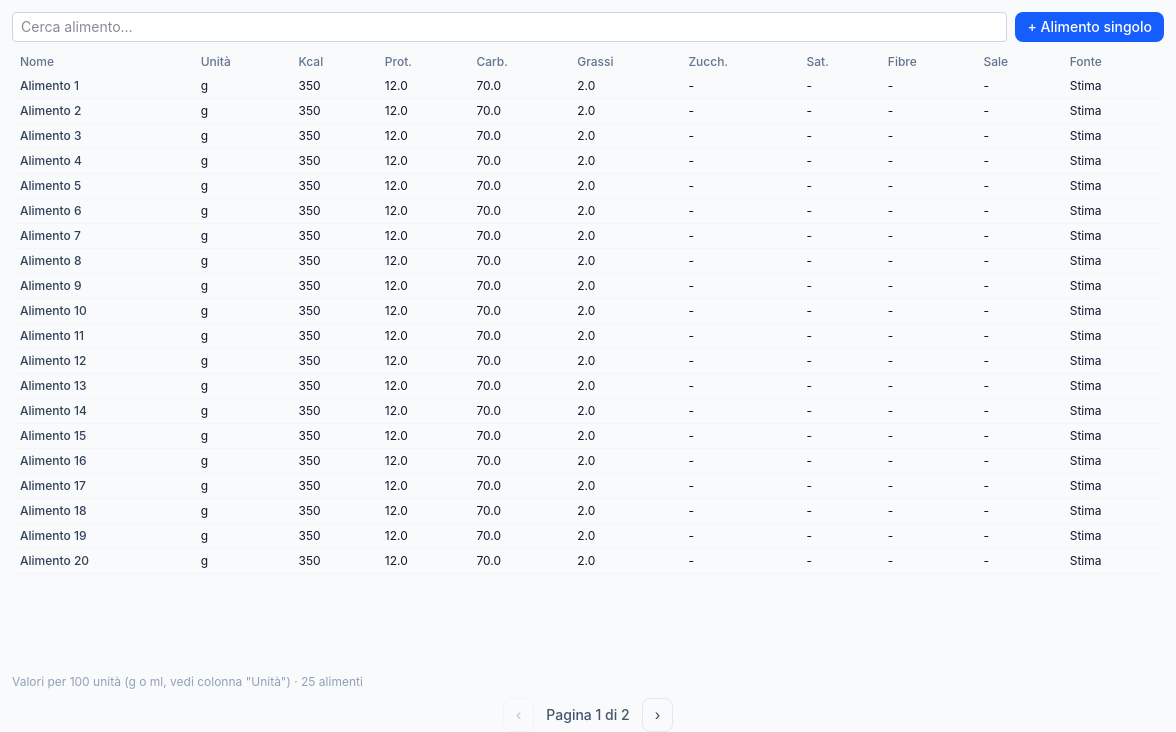
it: LibroAlimentiPanel › LibroAlimentiPanel_clicSuAvantiNellaPaginazione_mostraGliAlimentiDellaPaginaSuccessiva
The width and height of the screenshot is (1176, 732).
Click the button "›": {"x": 657, "y": 715} [642,698,673,731]
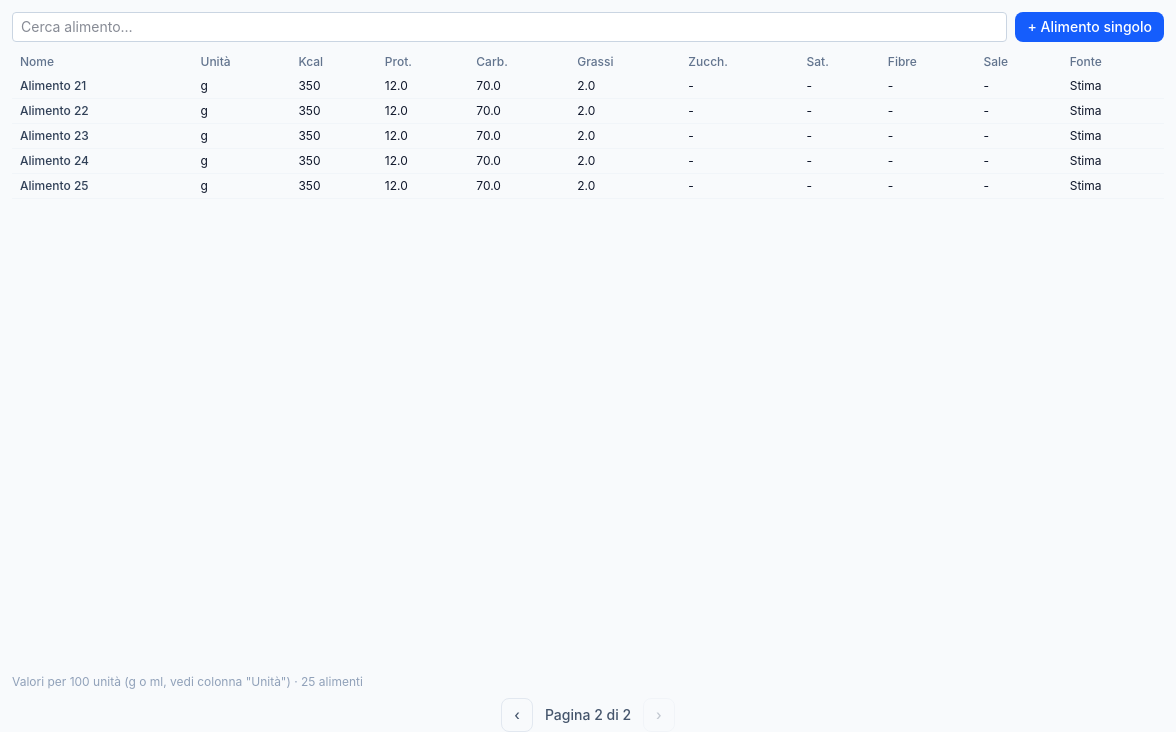
Check: the text "Alimento 21" is shown, box [12,74,192,98]
Check: the text "Pagina 2 di 2" is shown, box [545,705,631,725]
